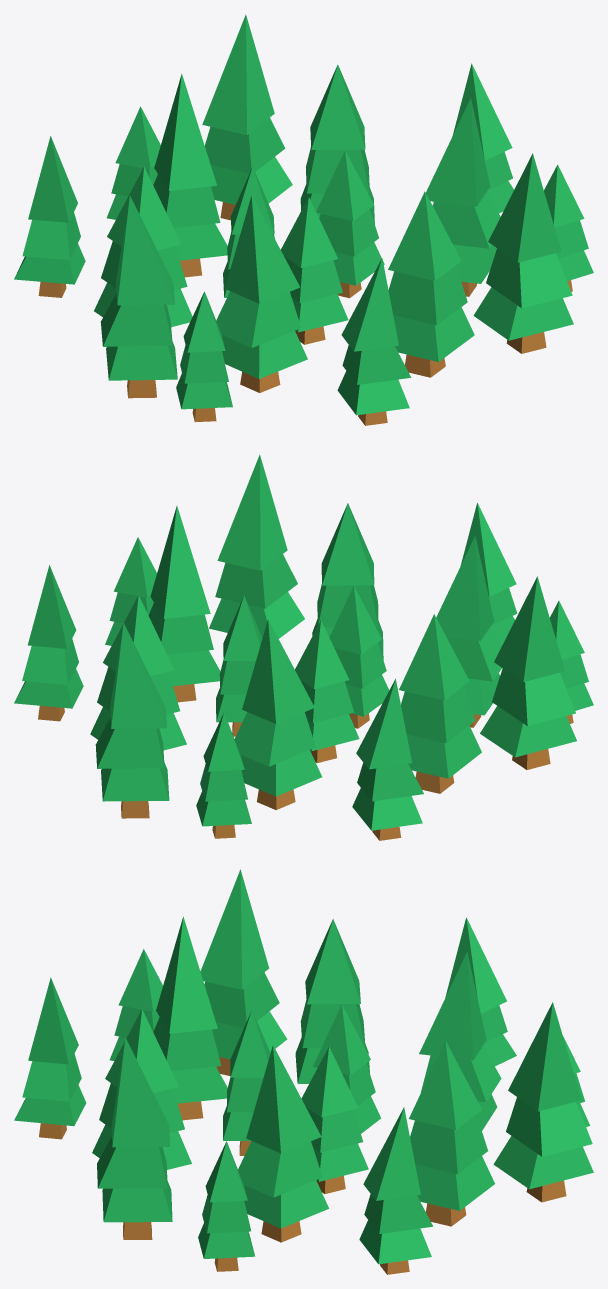
Rendered from nature_taigaFlat.fbx.
3 renders of one model, top to bottom at view 1: azimuth 30°, elevation 25°; view 2: azimuth 150°, elevation 25°; view 3: azimuth 270°, elevation 25°, orthographic. The views are drawn at different scales.
Parts seen in each view (by area): view 1: Taiga; view 2: Taiga; view 3: Taiga.
Boxes of the visible parts, box(x1,y1,x2,y2) form: Taiga: box(14, 14, 593, 425); Taiga: box(14, 454, 593, 840); Taiga: box(14, 869, 593, 1274).
Bounding box in the file's own units: 170 × 65 × 173.
